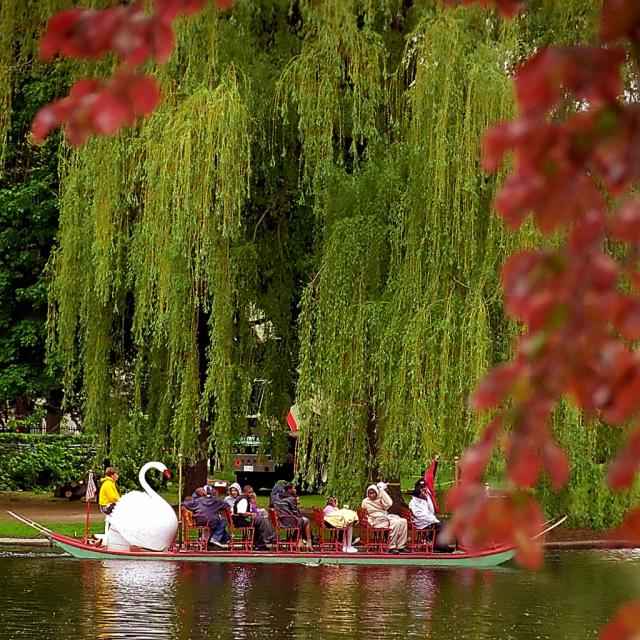Boat: (9, 460, 566, 564)
